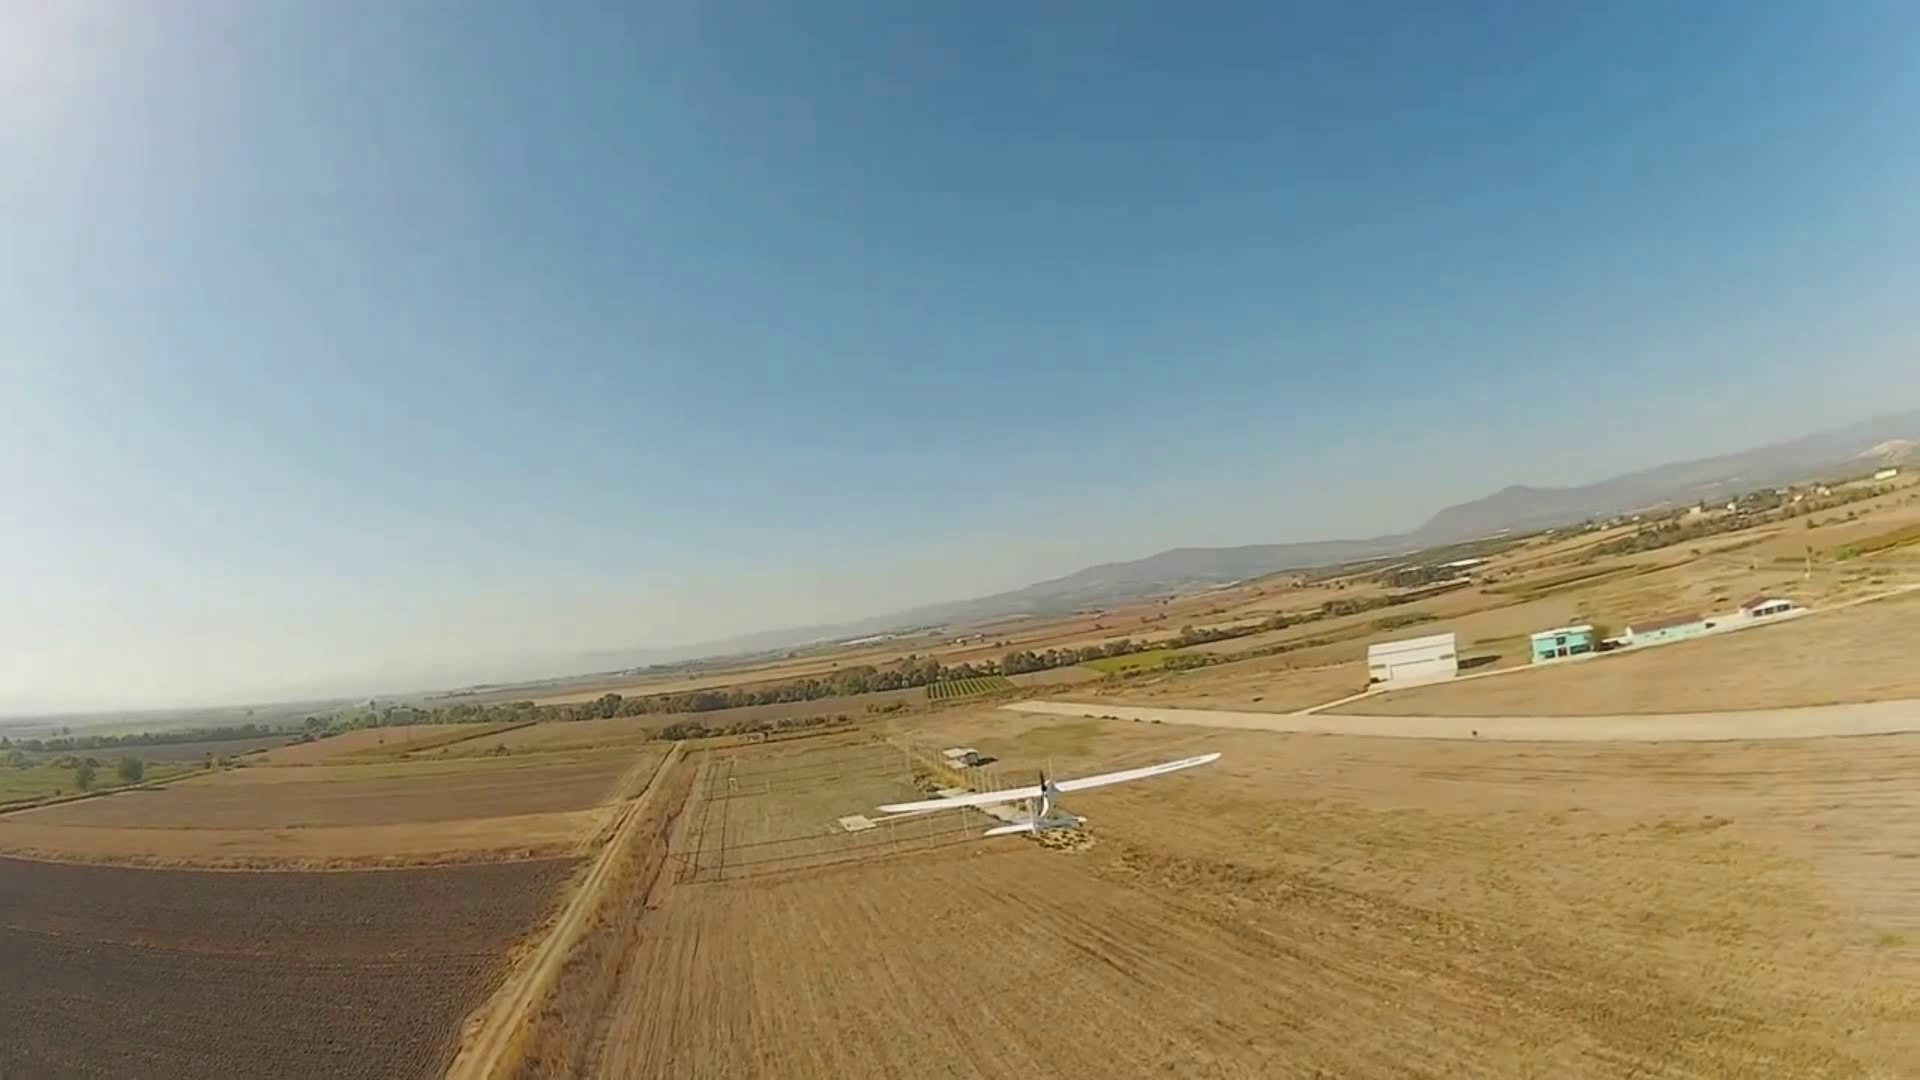airplane: (835, 746, 1224, 851)
